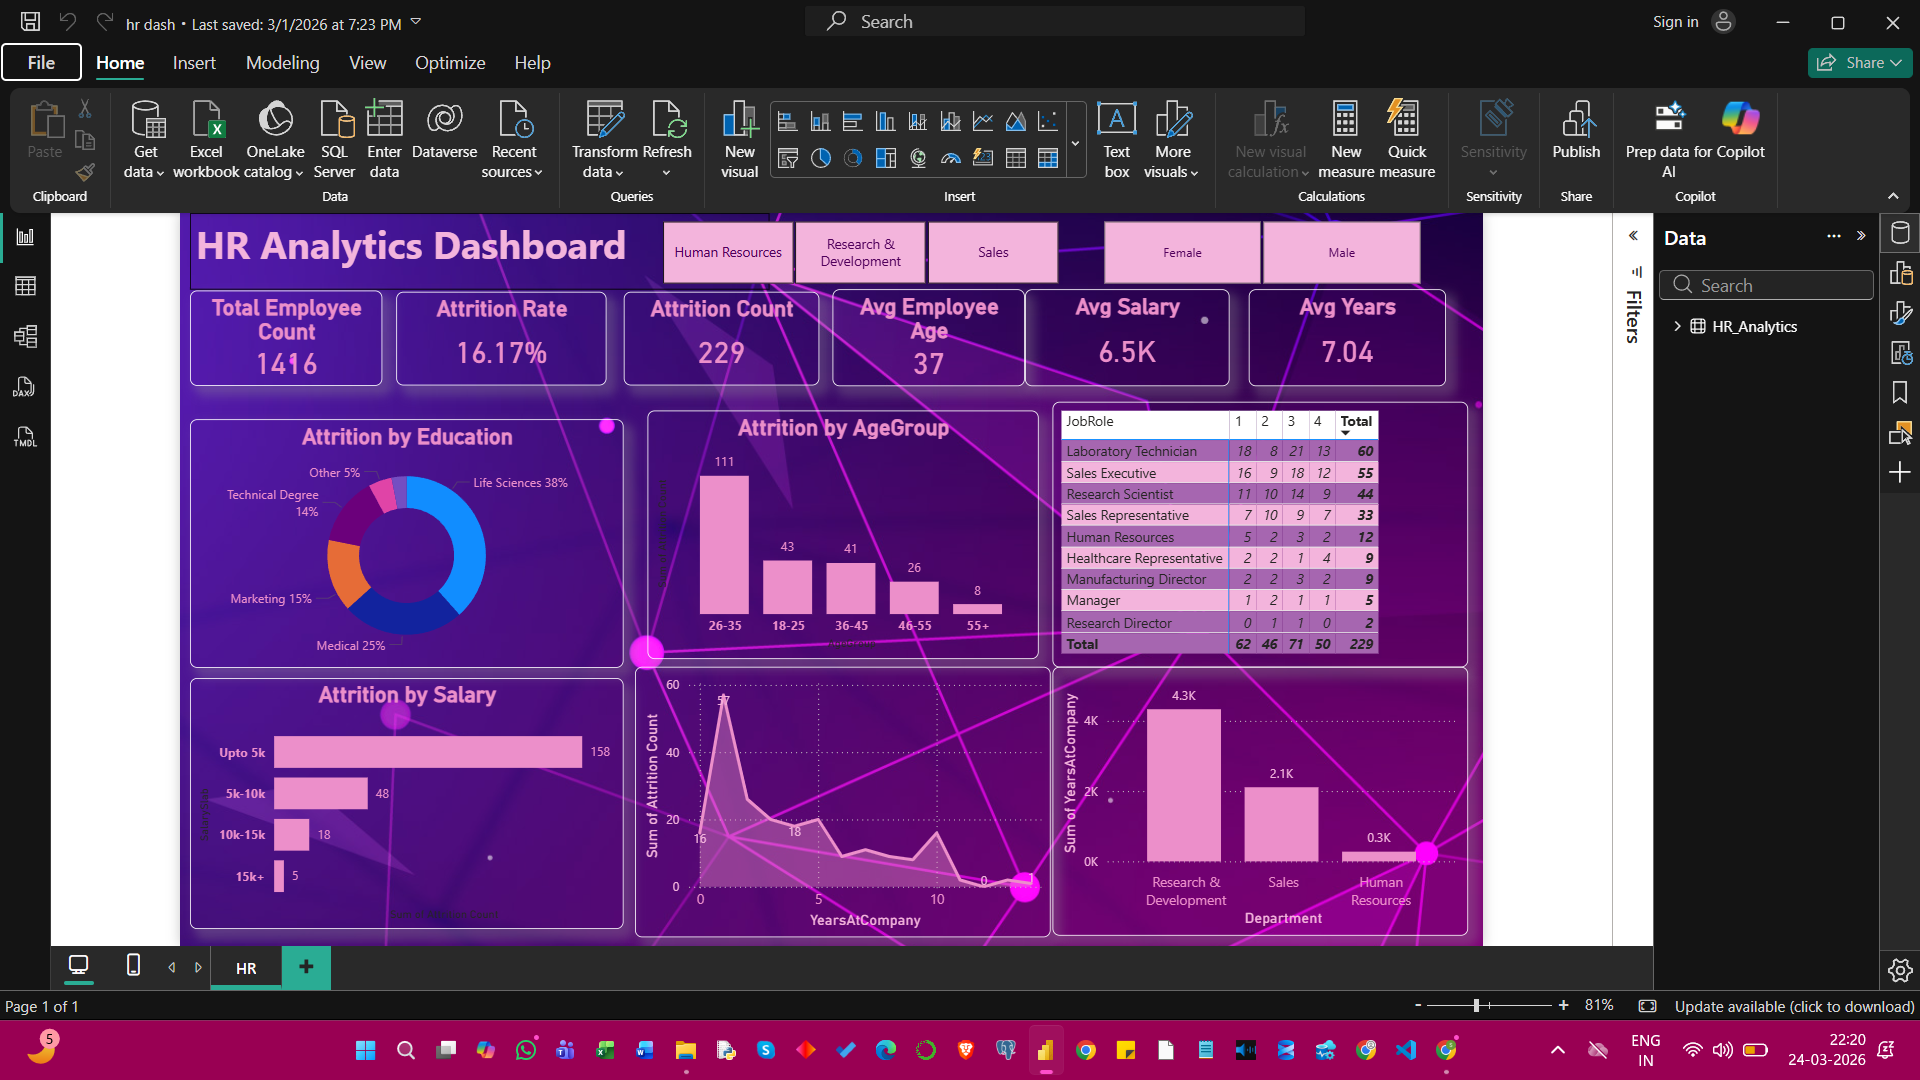

This screenshot's page, from the dashboard's own definition file:
{"tool":"powerbi","page":{"name":"HR ","canvas":[1280,720],"ordinal":0},"visuals":[{"type":"card","title":"Total Employee Count","fields":{"Values":["Sum(HR_Analytics.EmployeeCount)"]},"box":[9.8,76.1,189,93.3],"z":0},{"type":"card","title":"Attrition Count","fields":{"Values":["Sum(HR_Analytics.Attrition Count)"]},"box":[435.7,77.9,191.9,92.3],"z":1000},{"type":"card","title":"Attrition Rate","fields":{"Values":["HR_Analytics.Attrition Rate"]},"box":[212.1,77.9,206.3,92.3],"z":2000},{"type":"card","title":"Avg Employee Age","fields":{"Values":["Avg(HR_Analytics.Age)"]},"box":[640.6,75,189,95.2],"z":3000},{"type":"card","title":"Avg Salary","fields":{"Values":["Avg(HR_Analytics.MonthlyIncome)"]},"box":[829.6,75,200.5,95.2],"z":4000},{"type":"card","title":"Avg Years","fields":{"Values":["Avg(HR_Analytics.YearsAtCompany)"]},"box":[1048.9,75,193.3,95.2],"z":5000},{"type":"donutChart","title":" Attrition by Education","fields":{"Category":["HR_Analytics.EducationField"],"Y":["Sum(HR_Analytics.Attrition Count)"]},"box":[10.1,202,425.6,243.8],"z":6000},{"type":"clusteredColumnChart","title":" Attrition by AgeGroup","fields":{"Category":["HR_Analytics.AgeGroup"],"Y":["Sum(HR_Analytics.Attrition Count)"]},"box":[458.8,193.3,383.8,243.8],"z":7000},{"type":"clusteredBarChart","title":" Attrition by Salary","fields":{"Category":["HR_Analytics.SalarySlab"],"Y":["Sum(HR_Analytics.Attrition Count)"]},"box":[10.1,455.9,425.6,246.7],"z":8000},{"type":"pivotTable","title":" Attrition by AgeGroup","fields":{"Columns":["HR_Analytics.JobSatisfaction"],"Rows":["HR_Analytics.JobRole"],"Values":["Sum(HR_Analytics.Attrition Count)"]},"box":[857,184.7,408.3,261.1],"z":9000},{"type":"areaChart","title":" Attrition by AgeGroup","fields":{"Category":["HR_Analytics.YearsAtCompany"],"Y":["Sum(HR_Analytics.Attrition Count)"]},"box":[446.6,445.2,408.2,266],"z":9001},{"type":"columnChart","title":" Attrition by AgeGroup","fields":{"Category":["HR_Analytics.Department"],"Y":["Sum(HR_Analytics.YearsAtCompany)"]},"box":[857,445.8,408.3,264],"z":9002},{"type":"textbox","box":[10.1,0,568.4,75],"z":9003},{"type":"slicer","fields":{"Values":["HR_Analytics.Department"]},"box":[447.3,1.4,438.6,75],"z":9004},{"type":"slicer","fields":{"Values":["HR_Analytics.Gender"]},"box":[881.5,1.4,360.7,75],"z":9005}]}

Visuals, with their boxes on the page's 1280x720 design canvas (x1, y1, x2, y2). These are canvas units, not pixel positions in the 1920x1080 screenshot, which may show the page scaled, cropped or inside an application window:
"Total Employee Count" card: box(10, 76, 199, 169)
"Attrition Count" card: box(436, 78, 628, 170)
"Attrition Rate" card: box(212, 78, 418, 170)
"Avg Employee Age" card: box(641, 75, 830, 170)
"Avg Salary" card: box(830, 75, 1030, 170)
"Avg Years" card: box(1049, 75, 1242, 170)
" Attrition by Education" donutChart: box(10, 202, 436, 446)
" Attrition by AgeGroup" clusteredColumnChart: box(459, 193, 843, 437)
" Attrition by Salary" clusteredBarChart: box(10, 456, 436, 703)
" Attrition by AgeGroup" pivotTable: box(857, 185, 1265, 446)
" Attrition by AgeGroup" areaChart: box(447, 445, 855, 711)
" Attrition by AgeGroup" columnChart: box(857, 446, 1265, 710)
textbox: box(10, 0, 578, 75)
slicer - HR_Analytics.Department: box(447, 1, 886, 76)
slicer - HR_Analytics.Gender: box(882, 1, 1242, 76)
